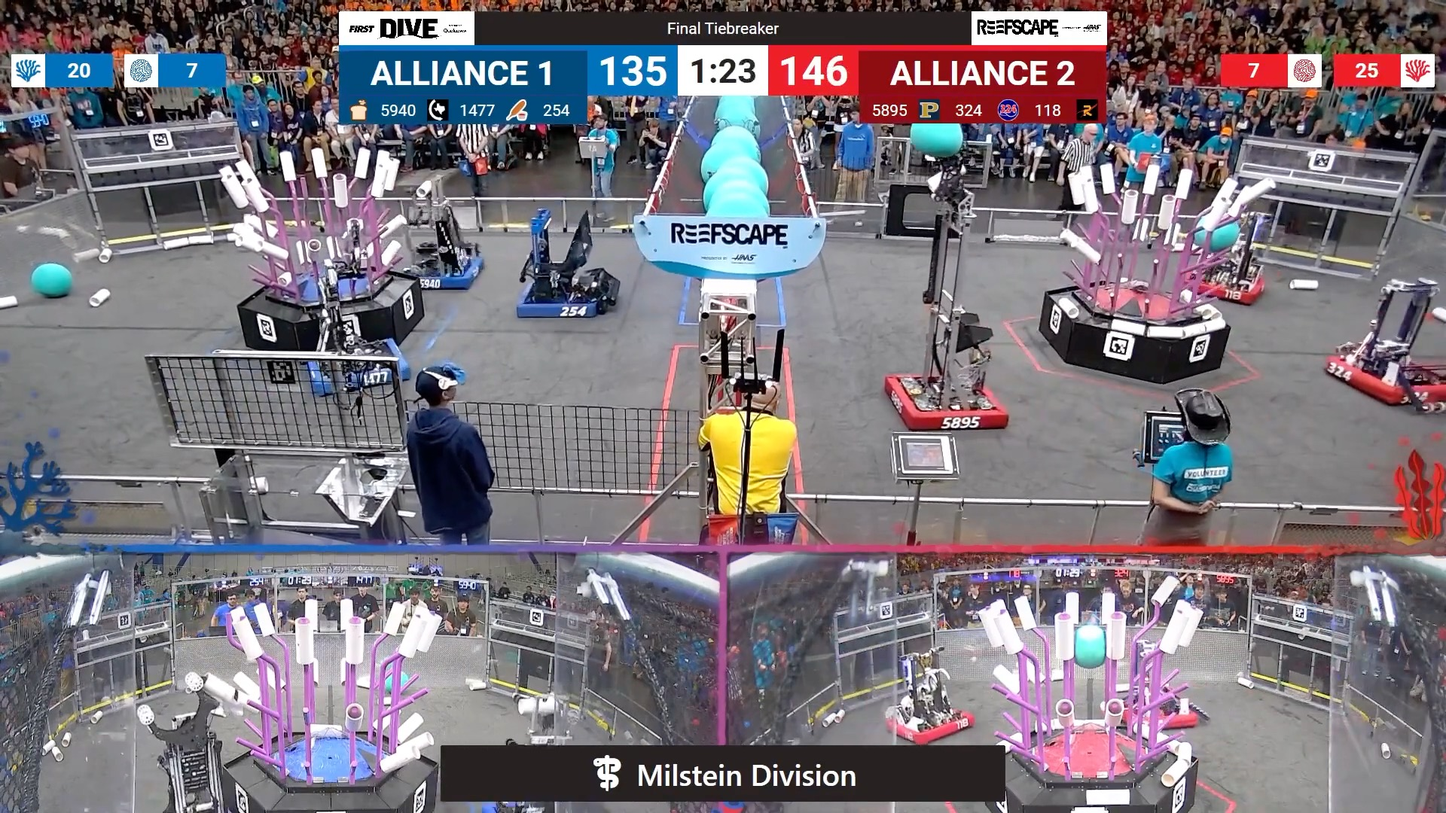bumpers: (1315, 344, 1444, 412), (883, 371, 1015, 437), (303, 342, 414, 398), (511, 272, 615, 328), (391, 249, 493, 294), (880, 703, 981, 745), (1180, 266, 1272, 305), (1112, 699, 1203, 731)
